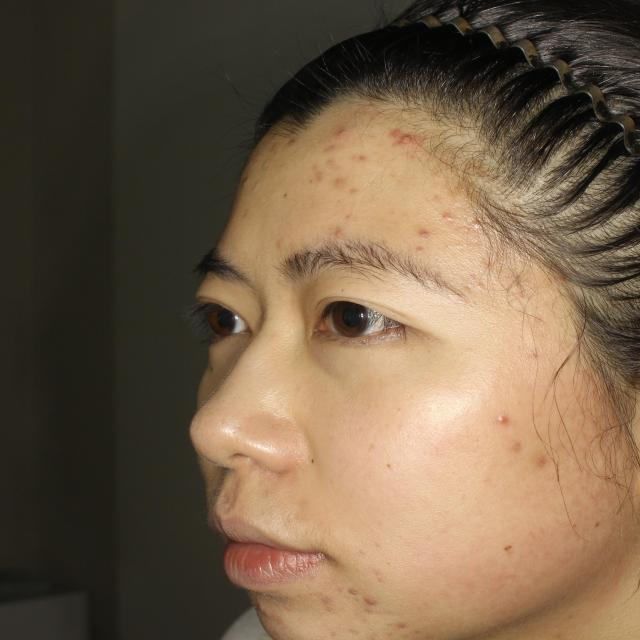pustule: (382, 123, 424, 157), (440, 202, 469, 230), (531, 448, 560, 476), (489, 400, 517, 424), (328, 174, 358, 194), (407, 222, 434, 244), (361, 590, 385, 614), (338, 583, 364, 604), (333, 126, 353, 153), (503, 431, 525, 455), (319, 227, 344, 242)
